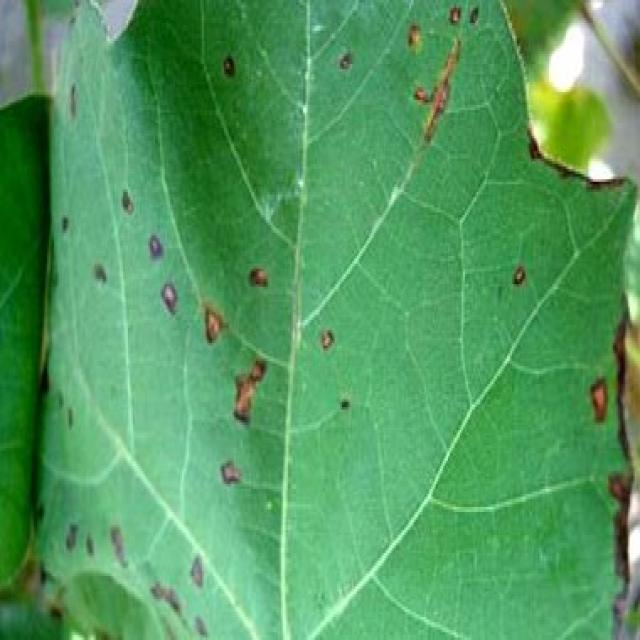Bacterial Blight: (92, 123, 304, 520)
